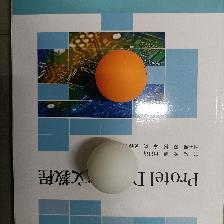WhiteBall: (85, 140, 139, 194)
YellowBall: (94, 49, 147, 102)
